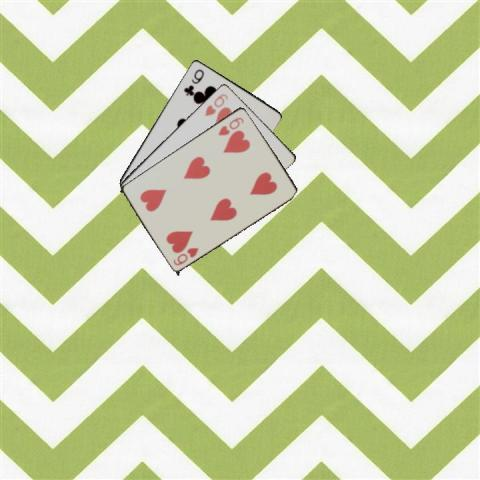6h: (202, 91, 230, 117), (216, 114, 246, 137), (170, 244, 200, 267)
9c: (181, 66, 205, 97)
